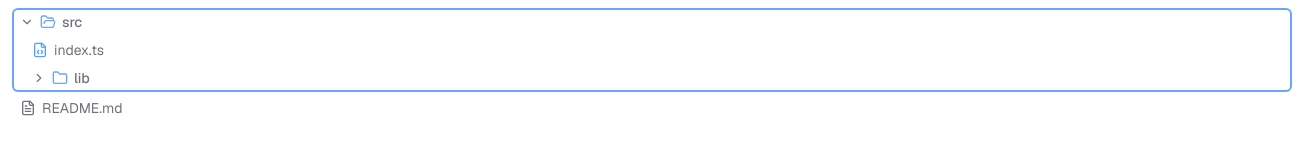
FileTree › keeps a tab stop when the row holding it is collapsed away
Press ArrowDown in the list item "src index.ts lib", box [12,8,1292,92]
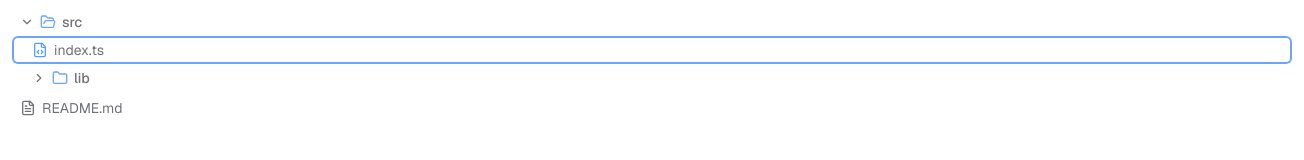
Click the button "src". click: (27, 22)
box: [12,8,1292,36]
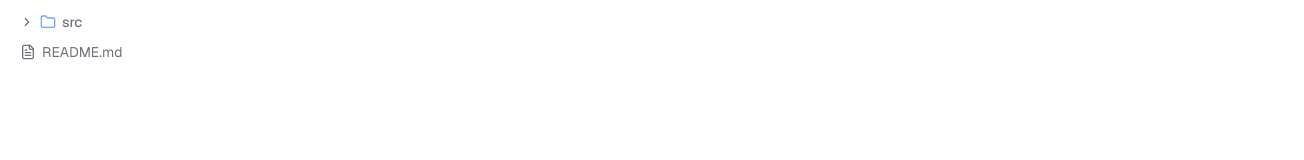
Check: the number of list items is 2, box [12,8,1292,36]; [12,38,1292,66]
